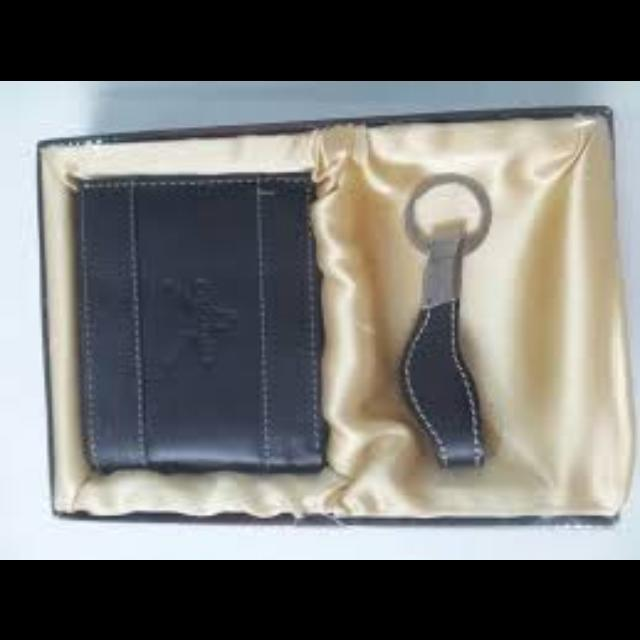wallet: (71, 171, 346, 483)
